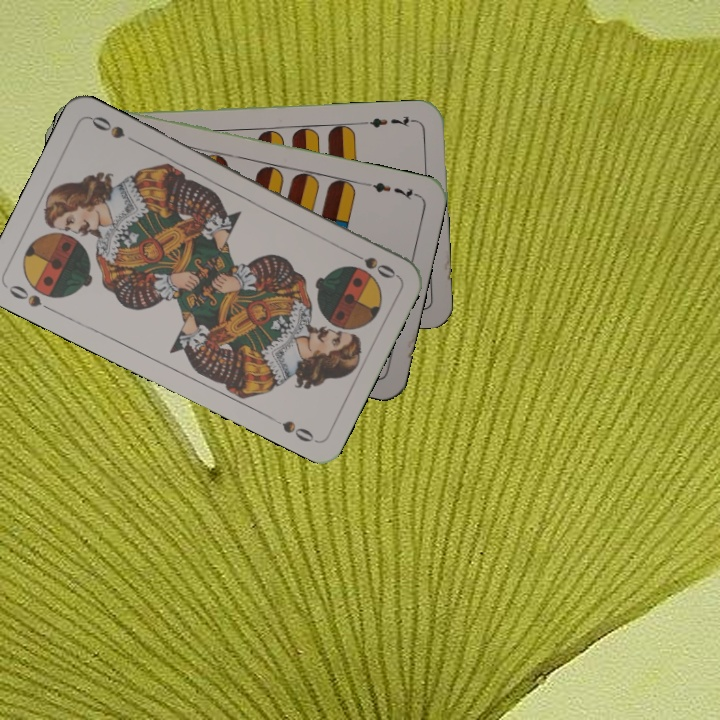E7: (363, 178, 421, 203), (360, 111, 419, 131)
SO: (344, 246, 399, 281), (4, 280, 58, 315)
